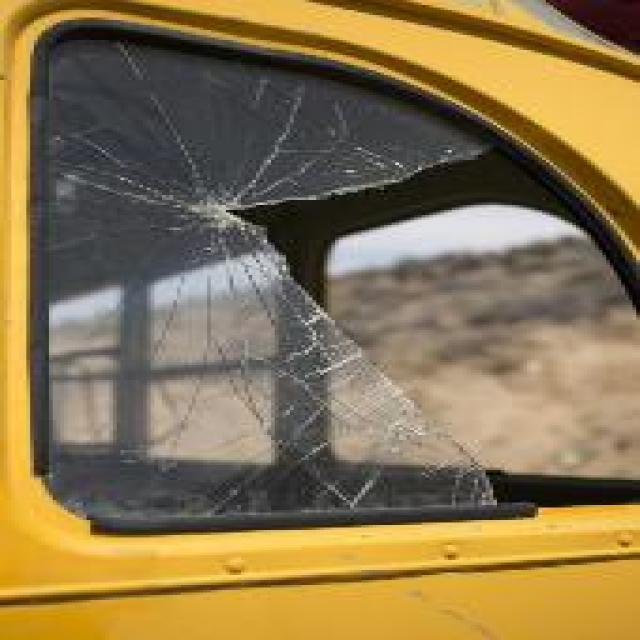Door: (15, 35, 640, 640)
